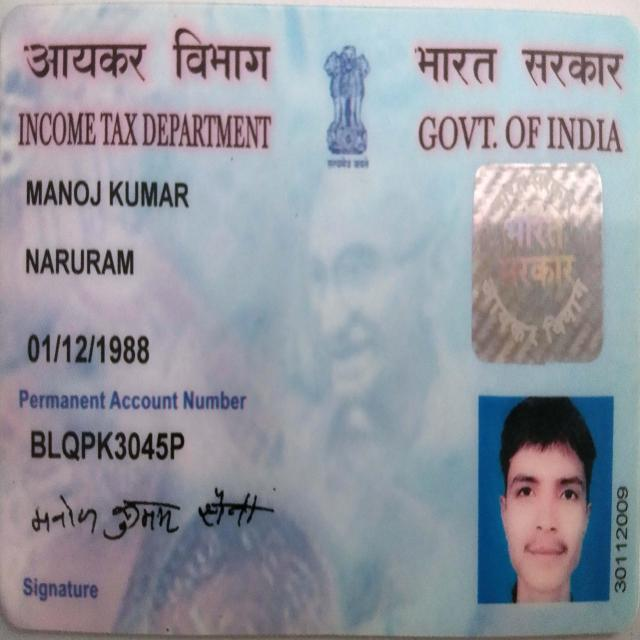pan_card: (3, 7, 635, 634)
